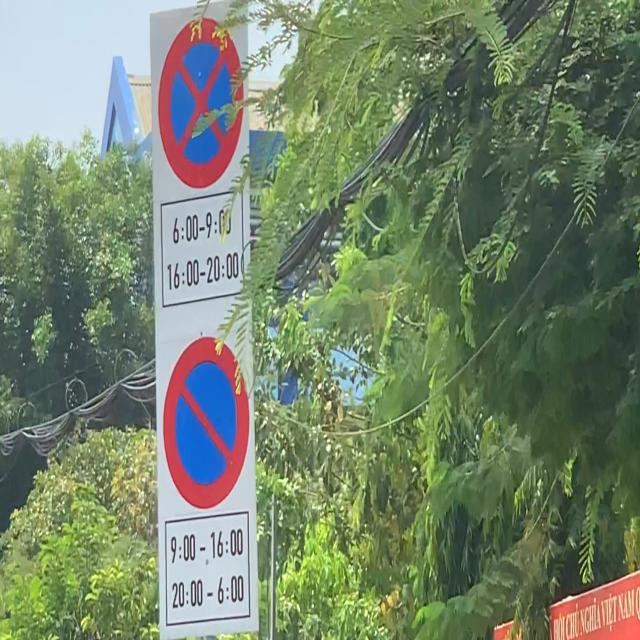Cam do: (162, 335, 251, 511)
Cam dung va do: (158, 14, 244, 190)
